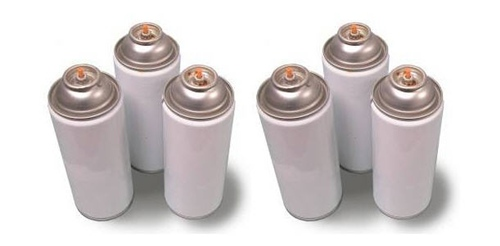Aerosol_cans: (255, 58, 355, 226), (43, 61, 139, 224), (367, 63, 448, 224), (159, 60, 237, 224), (320, 19, 398, 177), (112, 15, 185, 179)
